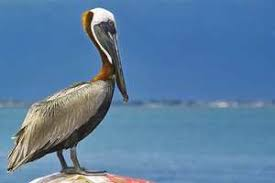pelican: (6, 8, 129, 172)
